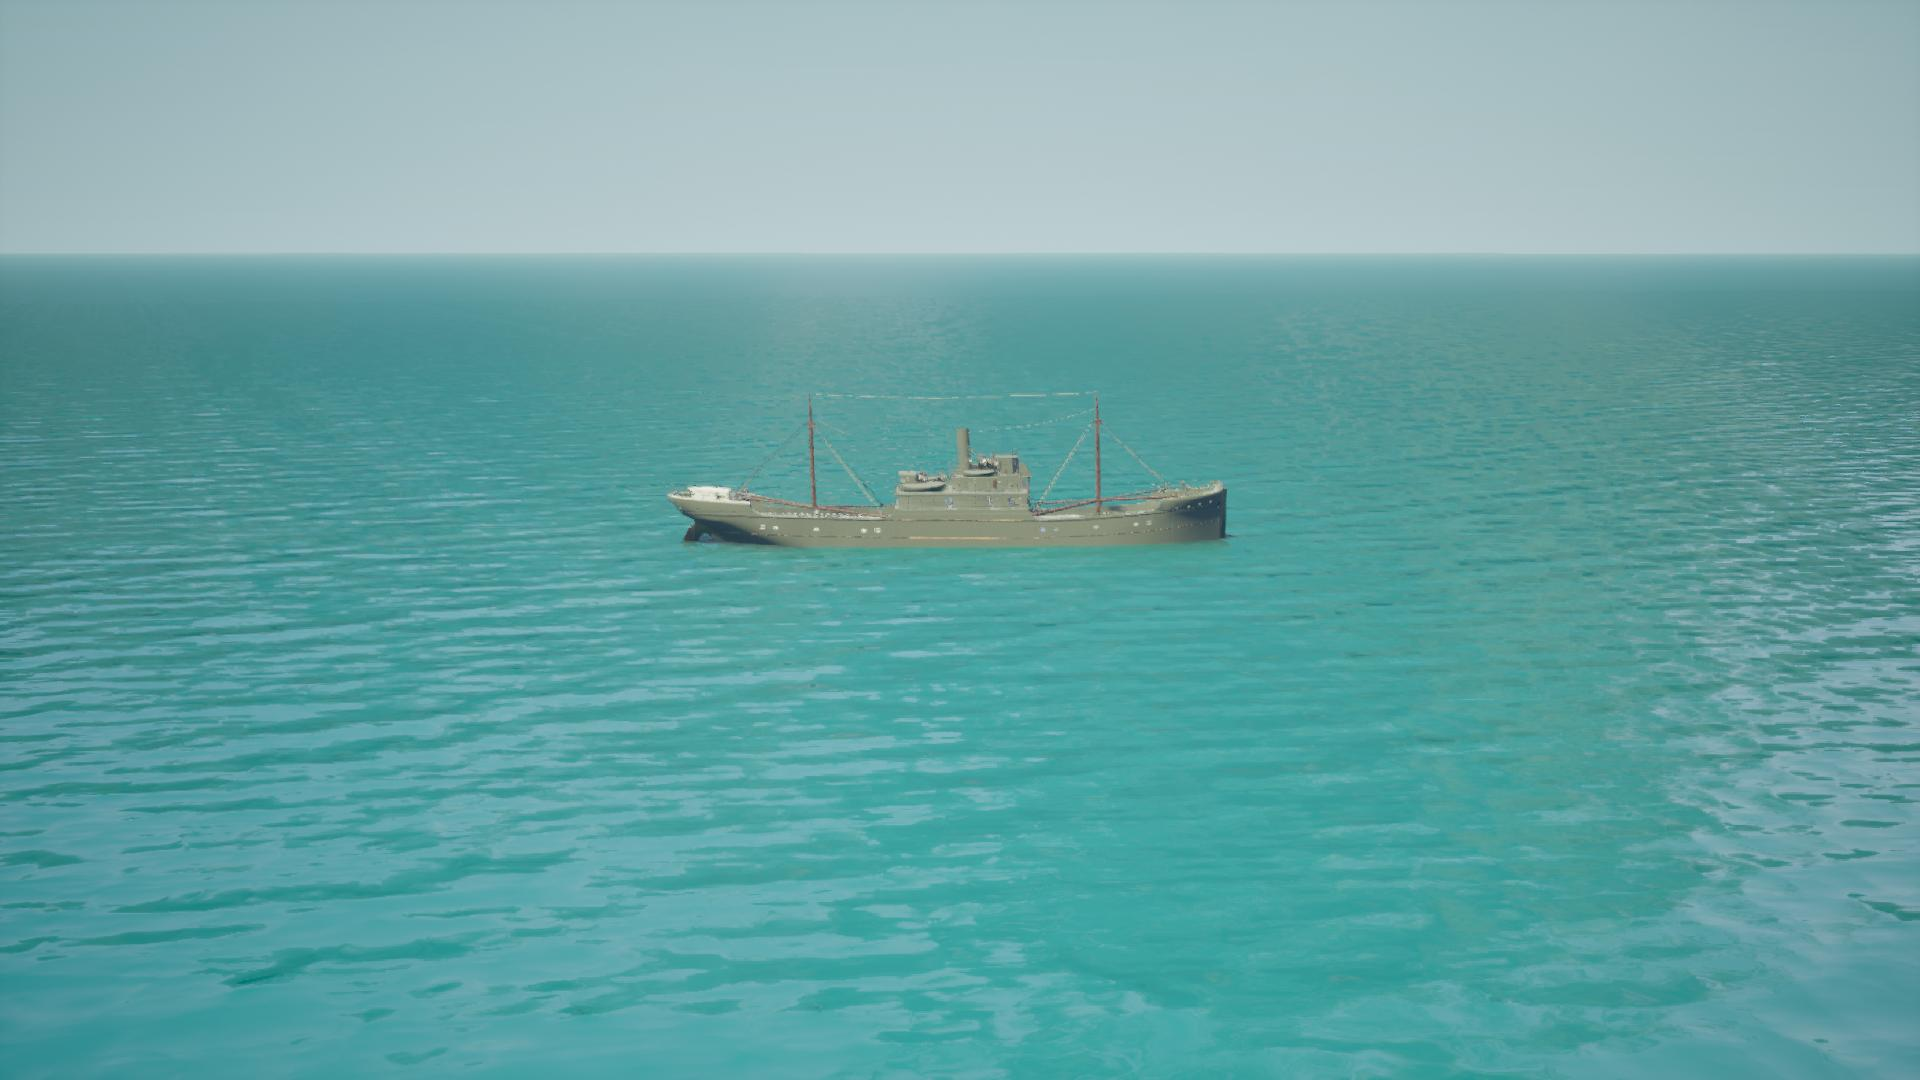Fishing Boat: (671, 390, 1229, 553)
